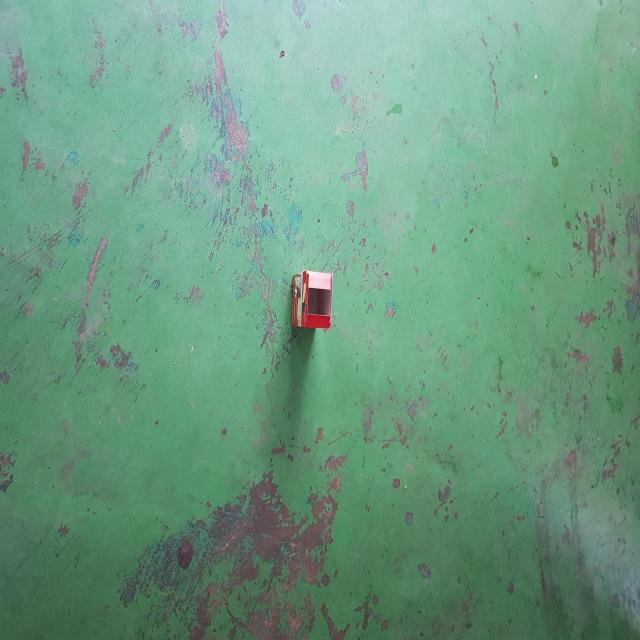paperpack: (291, 270, 333, 329)
